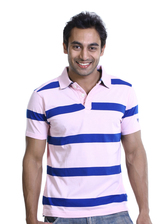clothoes: (25, 65, 143, 217)
